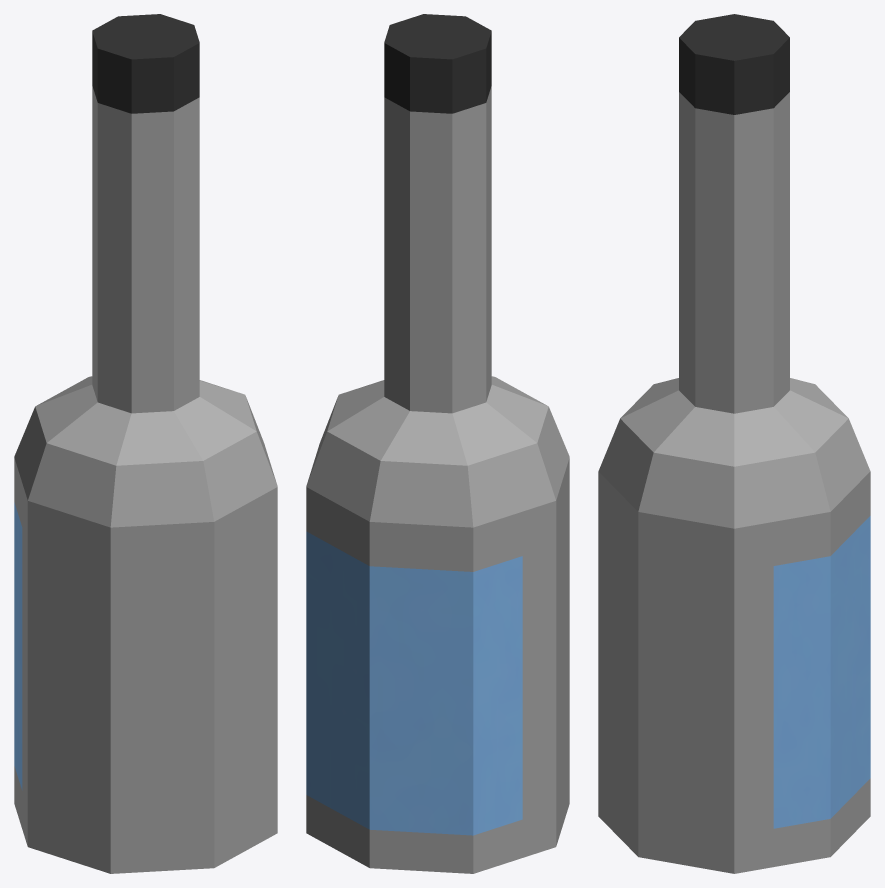
Rendered from bottle_8.fbx.
3 renders of one model, left to right at view 1: azimuth 30°, elevation 25°; view 2: azimuth 150°, elevation 25°; view 3: azimuth 270°, elevation 25°, orthographic.
Parts seen in each view (by area): view 1: bottle_8; view 2: bottle_8; view 3: bottle_8.
Part boxes in pixels (x1=…): bottle_8: x1=14, y1=14, x2=277, y2=873; bottle_8: x1=306, y1=14, x2=569, y2=873; bottle_8: x1=598, y1=14, x2=870, y2=873.
Size of the model in its own units: 4.17 by 13.19 by 4.17.
